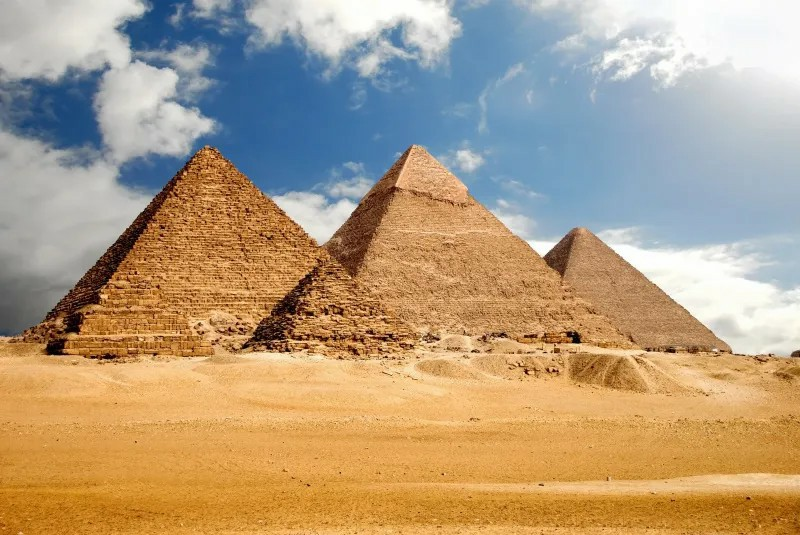Pyramid: (328, 144, 641, 350), (27, 146, 333, 348), (542, 226, 734, 354), (242, 258, 420, 358), (46, 261, 216, 359)
